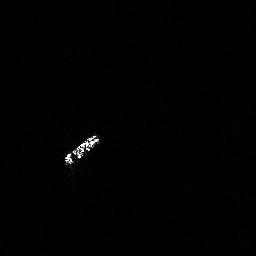ship: (61, 131, 104, 169)
